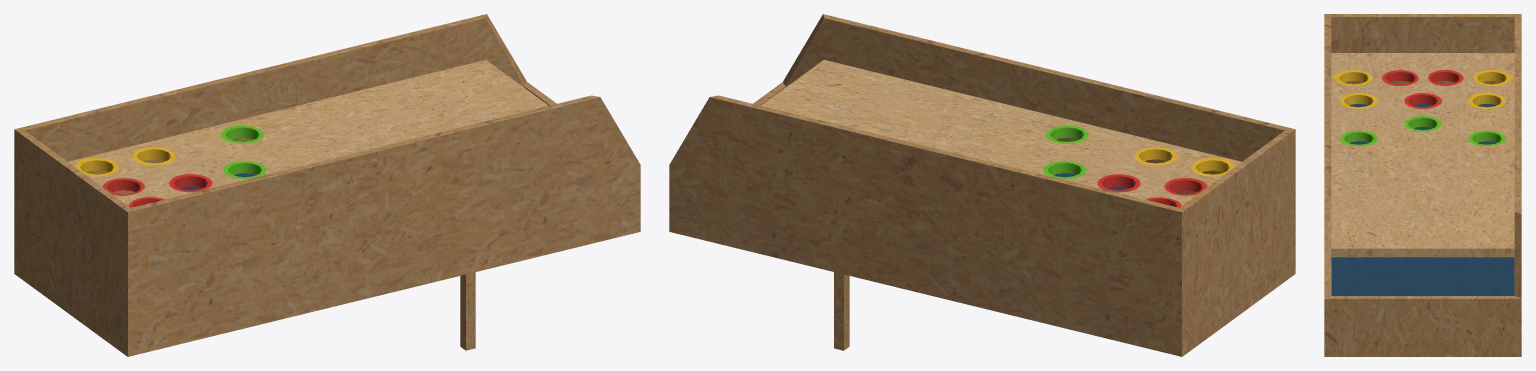
File: model_trajectory.fbx
3 renders of one model, left to right at view 1: azimuth 30°, elevation 25°; view 2: azimuth 150°, elevation 25°; view 3: azimuth 270°, elevation 25°, orthographic. The views are drawn at different scales.
Parts seen in each view (by area): view 1: Korpus, Lochplatte, Tischbein (links); view 2: Korpus, Lochplatte, Tischbein (rechts); view 3: Lochplatte, Korpus.
Boxes of the visible parts, x1,y1,x2,y2 form: Korpus: [14, 14, 640, 356]; Lochplatte: [68, 60, 548, 207]; Tischbein (links): [460, 272, 475, 350]; Korpus: [669, 14, 1295, 356]; Lochplatte: [761, 60, 1241, 207]; Tischbein (rechts): [834, 272, 849, 350]; Lochplatte: [1331, 53, 1514, 257]; Korpus: [1324, 14, 1521, 356].
Bounding box in the file's own units: 522 × 216 × 200.
